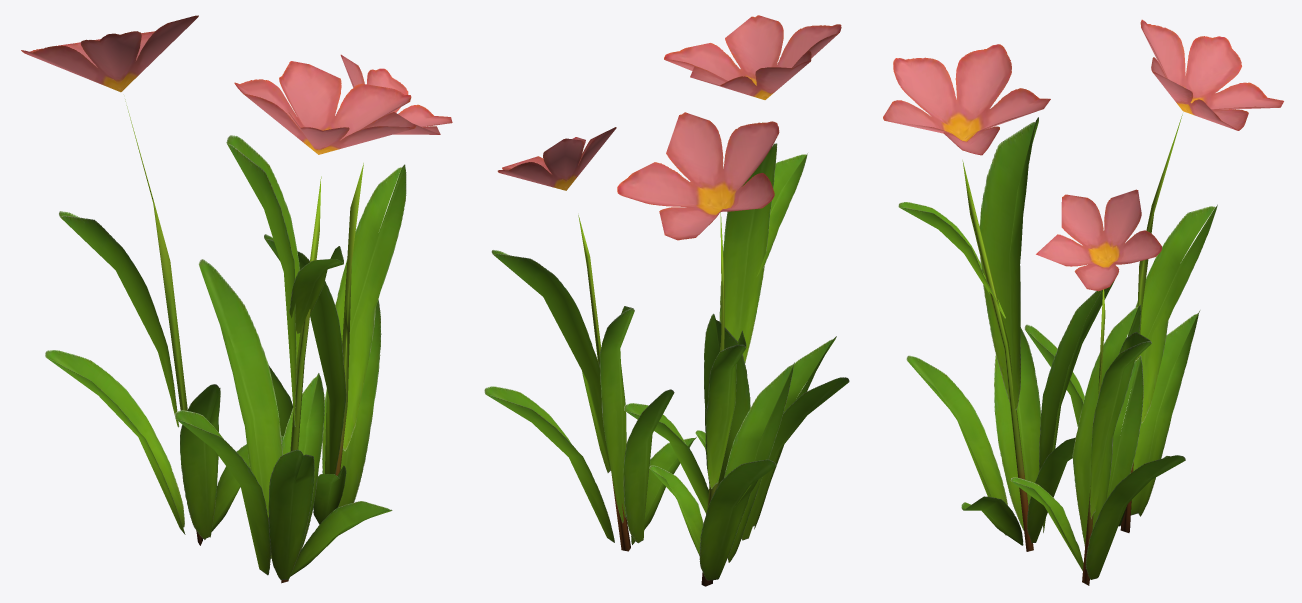
The model's file is bunga.glb.
3 views of the same model, side by side, from view 1: azimuth 30°, elevation 25°; view 2: azimuth 150°, elevation 25°; view 3: azimuth 270°, elevation 25° (orthographic). The views are drawn at different scales.
Visible parts, largest first — view 1: Flower_3_Group; view 2: Flower_3_Group; view 3: Flower_3_Group.
Boxes of the visible parts, x1,y1,x2,y2 form: Flower_3_Group: (21, 15, 452, 583); Flower_3_Group: (484, 15, 849, 586); Flower_3_Group: (883, 19, 1283, 585).
Size of the model in its own units: 0.5071 by 0.6954 by 0.5319.
Materials: 2 (2 with a texture image).
